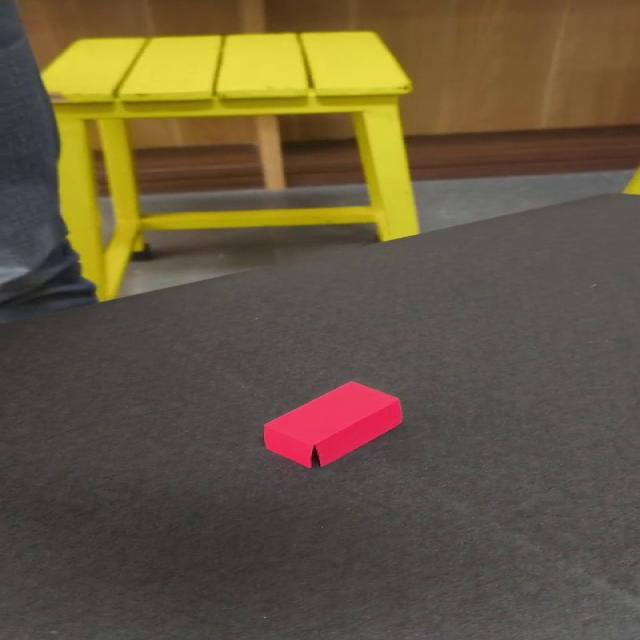red block: (261, 380, 404, 468)
